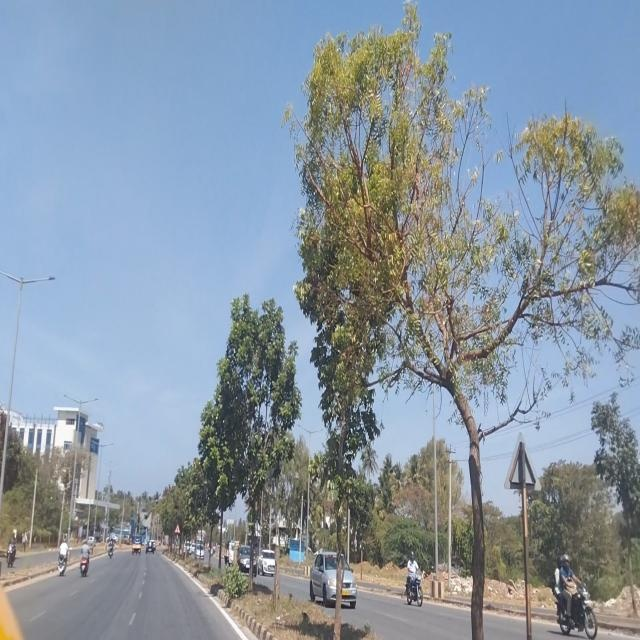bien_nguy_hiem: (174, 523, 181, 536)
